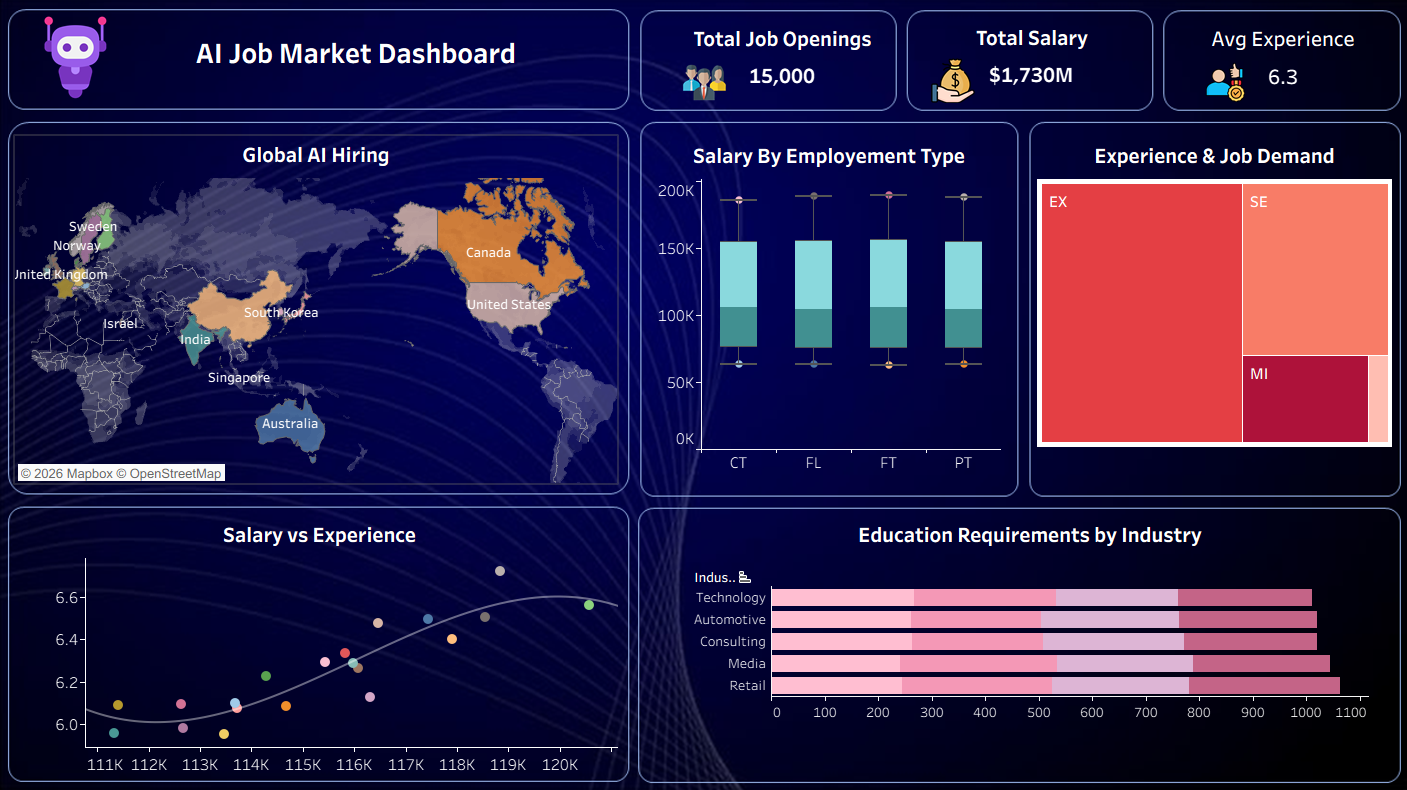

This screenshot's page, from the dashboard's own definition file:
{"tool":"tableau","page":{"name":"Dashboard 1","canvas":[1600,900],"ordinal":0},"visuals":[{"type":"image","param":"Image/ppt.png","box":[3.9,0,1448.4,795.5]},{"type":"image","param":"Image/companion.png","box":[53,15,102,90]},{"type":"text","box":[133,17,492,77]},{"type":"worksheet","title":"Total Salary","mark":"Automatic","box":[952,22,206,98]},{"type":"worksheet","title":"Total Employees","mark":"Automatic","box":[678,23,255,82]},{"type":"worksheet","title":"Avg Experience","mark":"Automatic","box":[1175,23,262,104]},{"type":"image","param":"Image/salary.png","box":[953,61,48,45]},{"type":"image","param":"Image/staff.png","box":[705,63,47,44]},{"type":"image","param":"Image/credibility.png","box":[1228,65,43,40]},{"type":"worksheet","title":"Map","mark":"Multipolygon","box":[38,139,602,347]},{"type":"worksheet","title":"Box Plot ","mark":"Circle","rows":["salary_usd"],"cols":["employment_type"],"box":[680,140,344,335]},{"type":"worksheet","title":"Treemap","mark":"Automatic","box":[1060,140,355,352]},{"type":"worksheet","title":"Scatter Plot","mark":"Circle","rows":["years_experience"],"cols":["salary_usd"],"box":[44,519,597,263]},{"type":"worksheet","title":"Horizontal Stacked Bar Chart","mark":"Automatic","rows":["industry"],"cols":["job_id"],"box":[714,519,678,291]}]}

Visuals, with their boxes in screenshot pixels (x1, y1, x2, y2), scaled from the page's 1600x900 canvas onto the 1407x790 screenshot:
image: crop(3, 0, 1277, 698)
image: crop(47, 13, 136, 92)
text: crop(117, 15, 550, 83)
"Total Salary" worksheet: crop(837, 19, 1018, 105)
"Total Employees" worksheet: crop(596, 20, 820, 92)
"Avg Experience" worksheet: crop(1033, 20, 1264, 111)
image: crop(838, 54, 880, 93)
image: crop(620, 55, 661, 94)
image: crop(1080, 57, 1118, 92)
"Map" worksheet (Multipolygon marks): crop(33, 122, 563, 427)
"Box Plot " worksheet (Circle marks): crop(598, 123, 900, 417)
"Treemap" worksheet: crop(932, 123, 1244, 432)
"Scatter Plot" worksheet (Circle marks): crop(39, 456, 564, 686)
"Horizontal Stacked Bar Chart" worksheet: crop(628, 456, 1224, 711)
